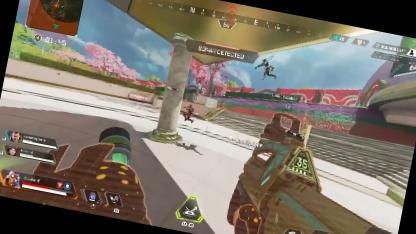Target: (257, 56, 278, 81), (180, 102, 196, 122)
